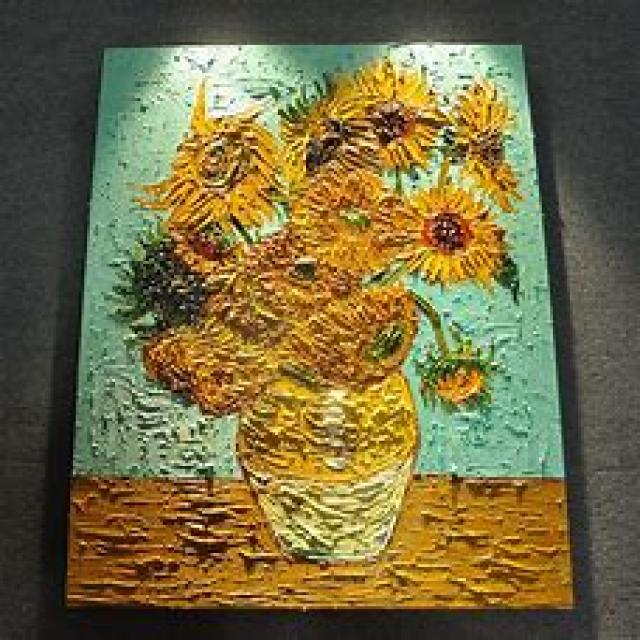sunflower: (90, 38, 549, 604)
